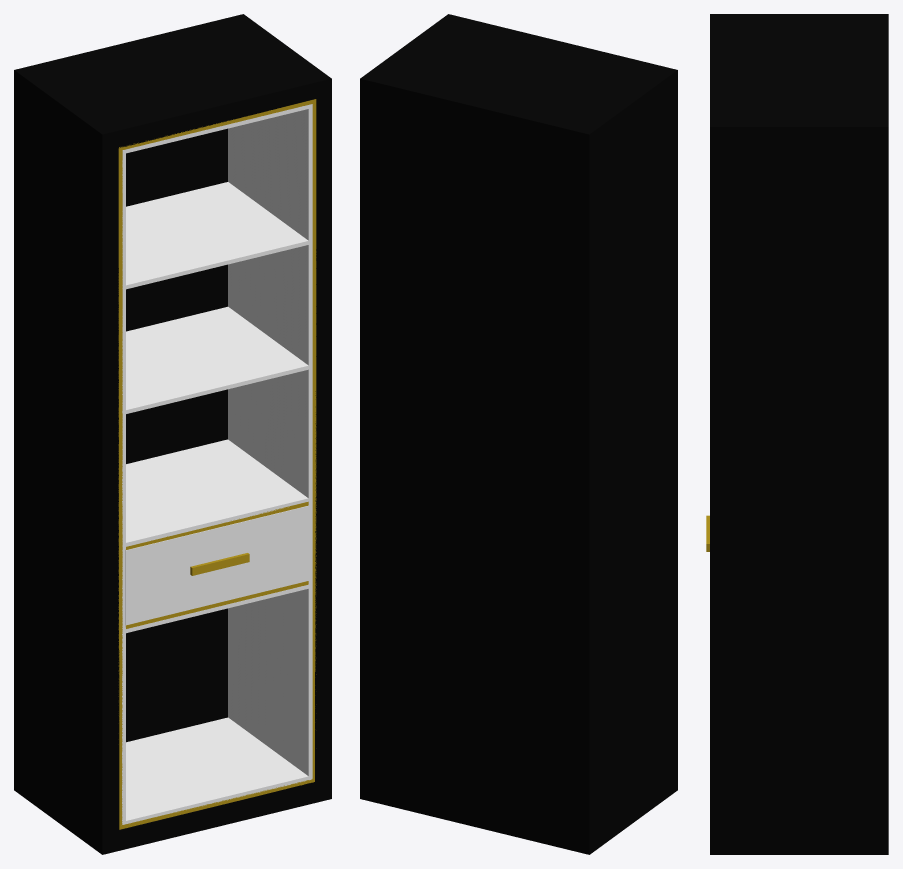
3 renders of one model, left to right at view 1: azimuth 30°, elevation 25°; view 2: azimuth 150°, elevation 25°; view 3: azimuth 270°, elevation 25°, orthographic.
Parts seen in each view (by area): view 1: Cube, Cube.003, Cube.013, Cube.011, Cube.012, Cube.015, Cube.008, Cube.002, Cube.001, Cube.004, Cube.007, Cube.016 (+5 smaller); view 2: Cube; view 3: Cube.
Boxes of the visible parts, x1,y1,x2,y2 form: Cube: [14, 14, 331, 854]; Cube.003: [228, 106, 312, 778]; Cube.013: [125, 505, 308, 625]; Cube.011: [122, 306, 308, 414]; Cube.012: [123, 182, 308, 289]; Cube.015: [125, 439, 308, 546]; Cube.008: [124, 717, 312, 824]; Cube.002: [118, 146, 122, 829]; Cube.001: [312, 99, 316, 781]; Cube.004: [122, 152, 125, 824]; Cube.007: [122, 104, 312, 153]; Cube.016: [125, 584, 308, 633]; Cube: [360, 14, 677, 854]; Cube: [710, 14, 888, 854].
Bounding box in the file's own units: 0.6 × 1.8 × 0.4082.
